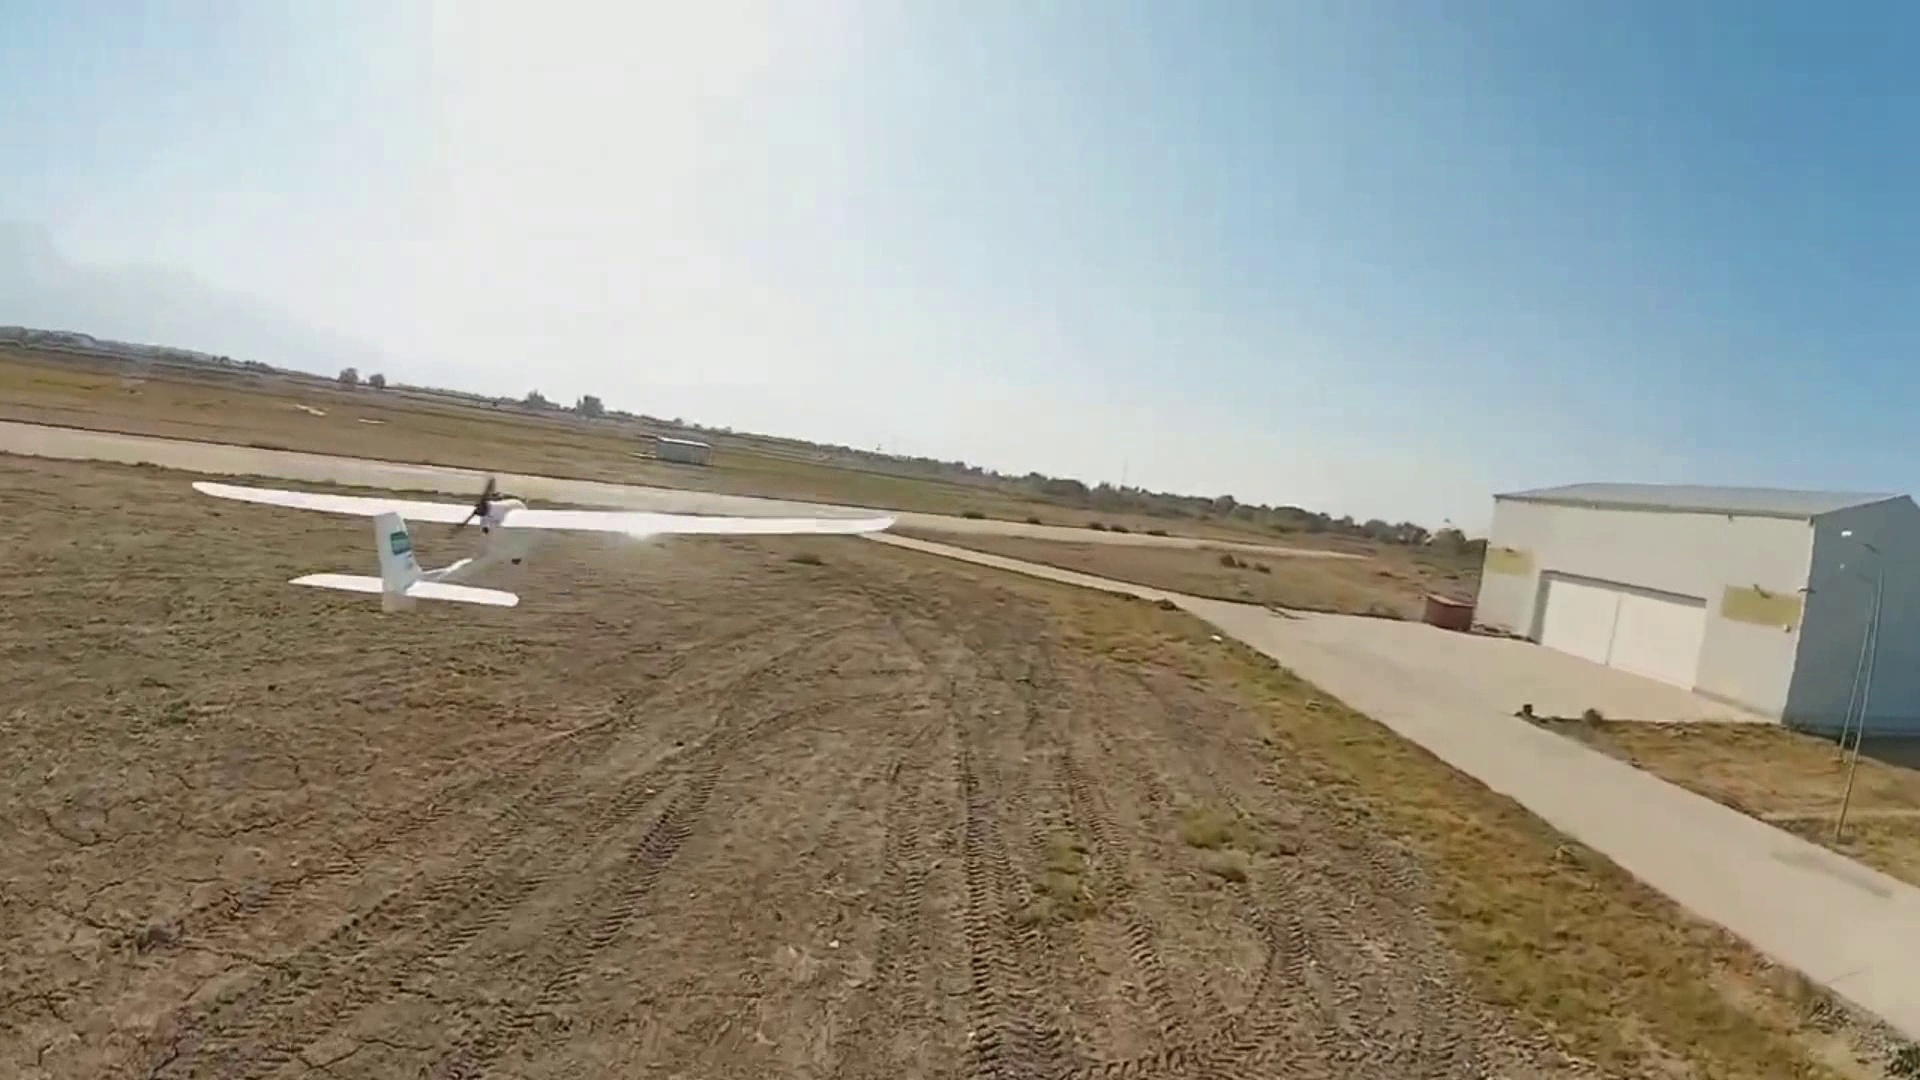airplane: (191, 473, 525, 613)
